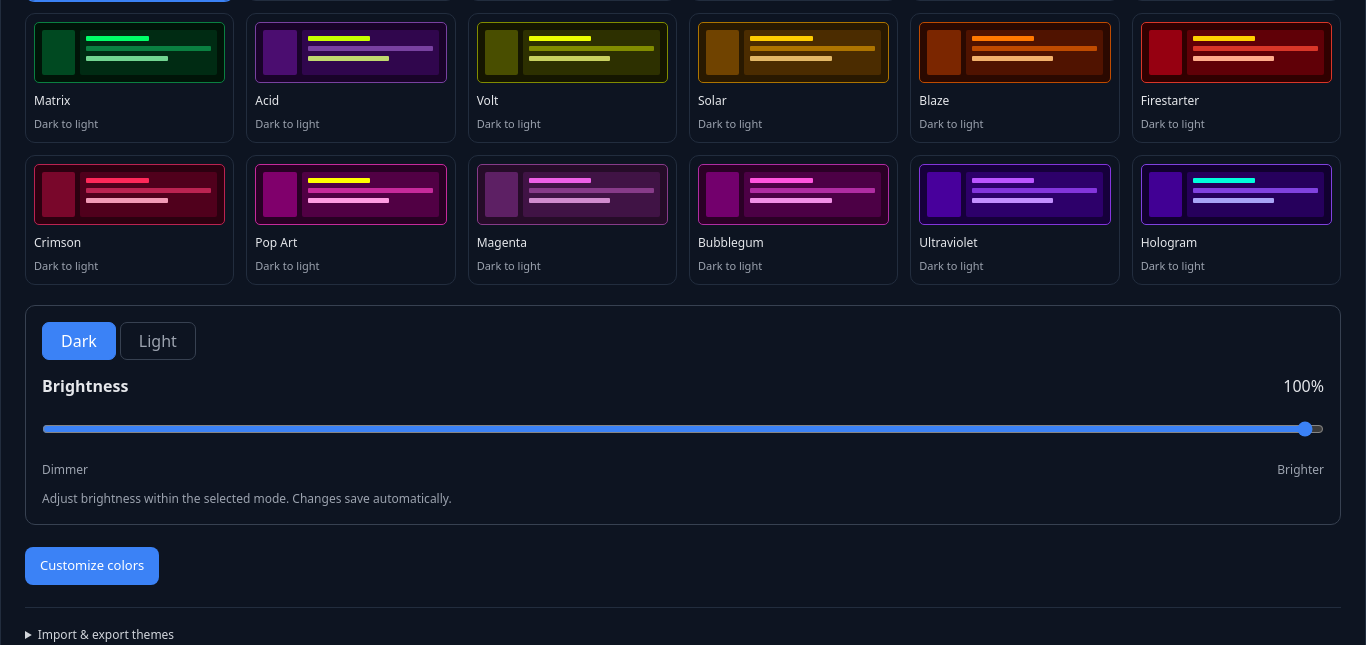
Scenario: allows full hex entry without expanding partial values, searches all groups, and resets one color
The width and height of the screenshot is (1366, 645).
(page scrolled)
Click the button "Customize colors".
click(92, 566)  # box left=25, top=547, right=159, bottom=585
(page scrolled)
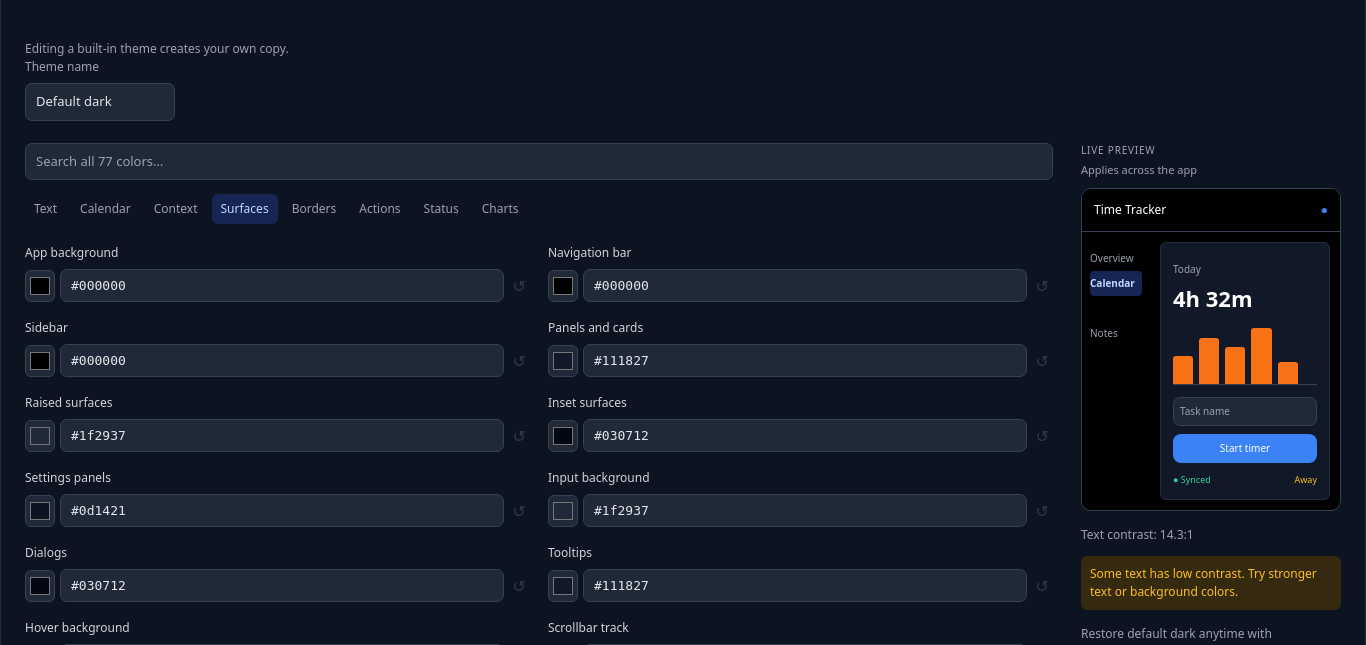
Replace the text in the field labelled "App background" with "#abcdef80" at (282, 286), box left=60, top=269, right=504, bottom=302
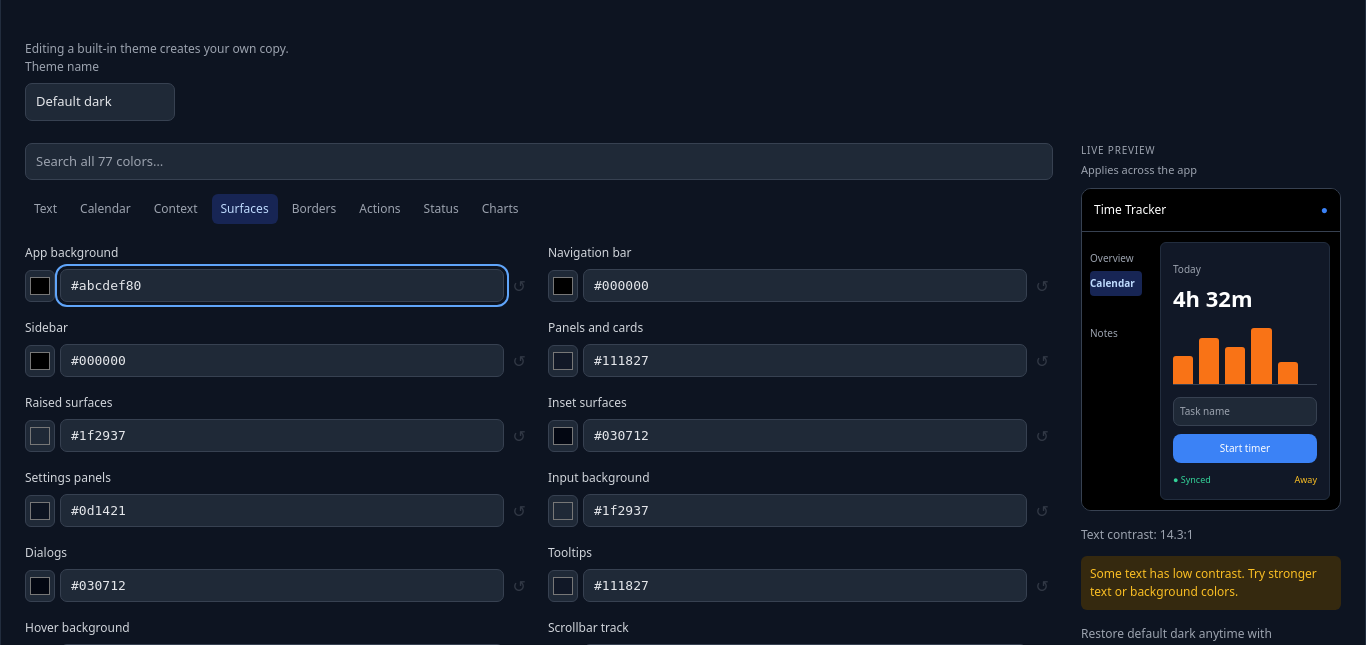
Press Tab
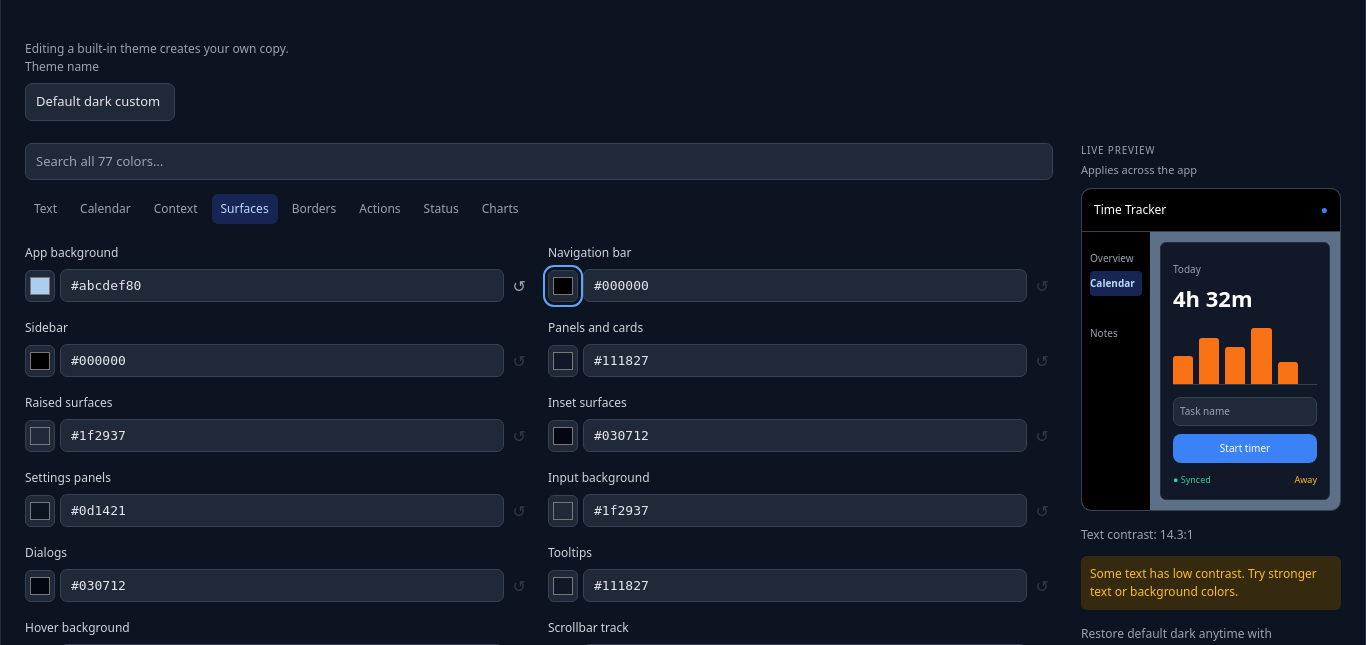
Click the button named "Reset App background".
click(519, 286)  # box left=509, top=270, right=530, bottom=302
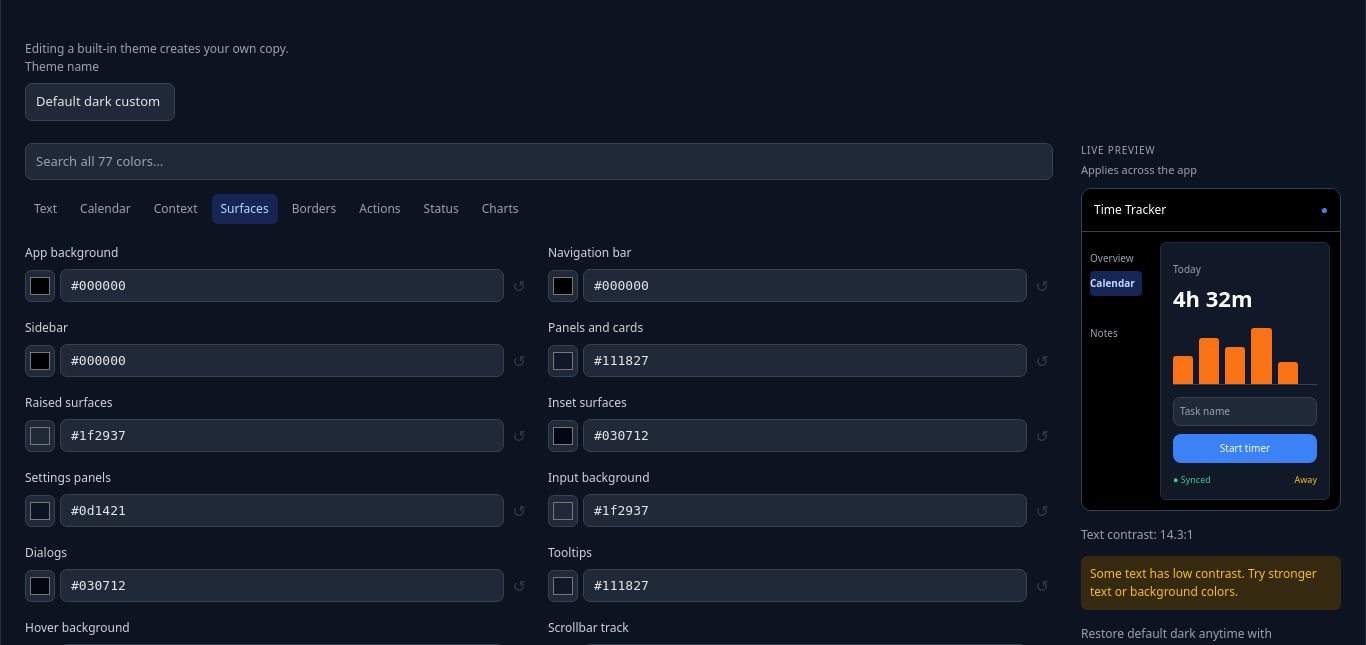
Type "Current time indicator" into the search field.
click(539, 161); type("Current time indicator")  # box left=25, top=143, right=1053, bottom=180
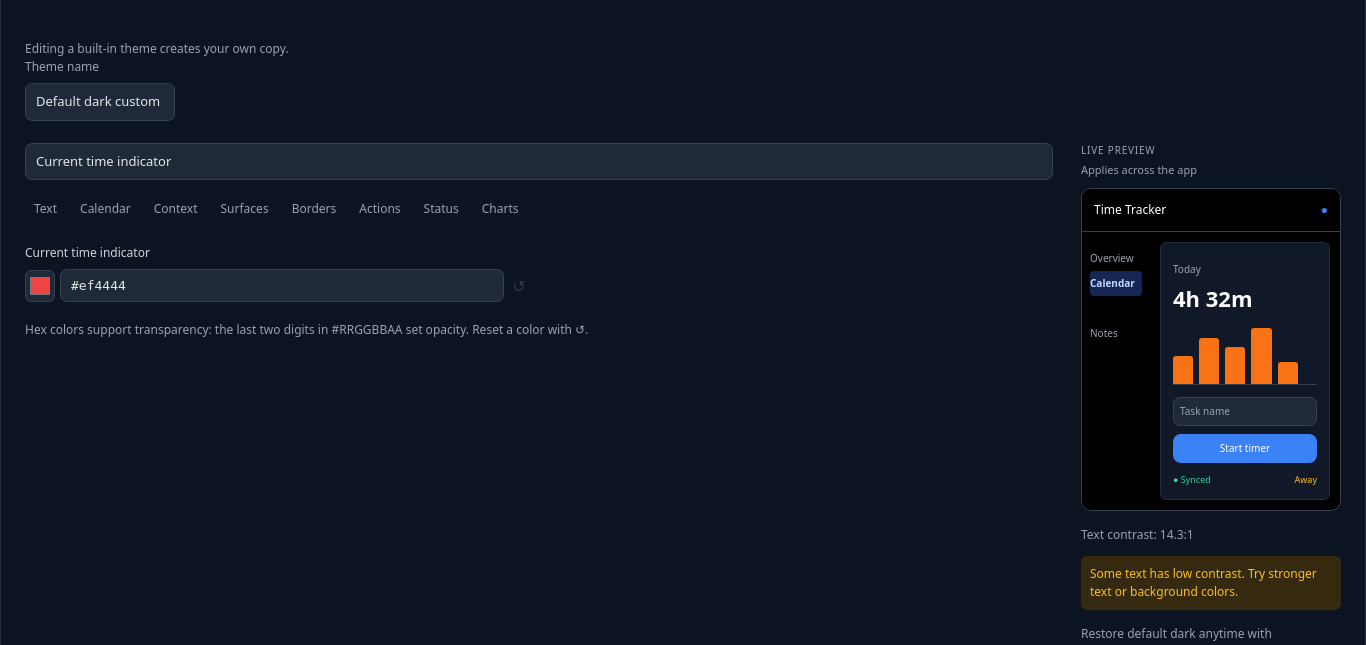
Expected: the field labelled "Current time indicator" is shown, left=60, top=269, right=504, bottom=302
Expected: the label labelled "App background" is gone
